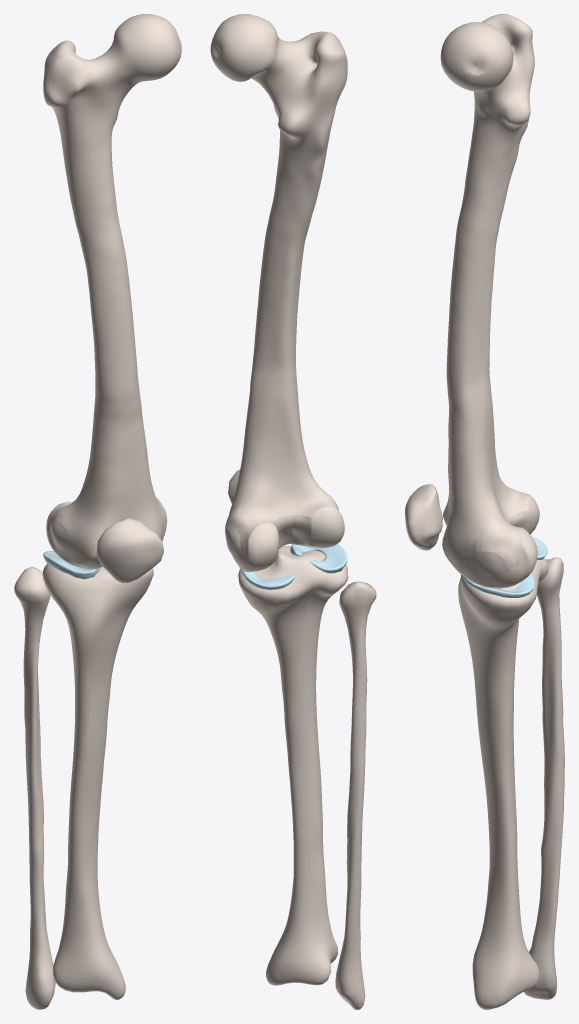
Rendered from 3d-vh-f-knee-r.glb.
3 renders of one model, left to right at view 1: azimuth 30°, elevation 25°; view 2: azimuth 210°, elevation 25°; view 3: azimuth 270°, elevation 25°, orthographic. The views are drawn at different scales.
Parts seen in each view (by area): view 1: VH_F_femur_R, VH_F_tibia_R, VH_F_fibula_R, VH_F_patella_R, VH_F_meniscus_R; view 2: VH_F_femur_R, VH_F_tibia_R, VH_F_fibula_R, VH_F_meniscus_R, VH_F_medial_condyle_of_right_femur_inf, VH_F_lateral_condyle_of_femur_inf_R, VH_F_anterior_cruciate_enthesis_R, VH_F_posterior_cruciate_enthesis_R; view 3: VH_F_femur_R, VH_F_tibia_R, VH_F_fibula_R, VH_F_patella_R, VH_F_meniscus_R, VH_F_medial_perichondular_surface_R, VH_F_medial_condyle_of_right_femur_inf, VH_F_articular_cartilage_of_knee_R, VH_F_medial_epicondylar_enthesis_R.
Part boxes in pixels (<box>): VH_F_femur_R: <box>43,14,181,562</box>; VH_F_tibia_R: <box>42,563,153,999</box>; VH_F_fibula_R: <box>14,566,55,1009</box>; VH_F_patella_R: <box>96,518,163,583</box>; VH_F_meniscus_R: <box>43,551,99,579</box>; VH_F_femur_R: <box>210,14,347,567</box>; VH_F_tibia_R: <box>238,545,348,985</box>; VH_F_fibula_R: <box>335,581,376,1009</box>; VH_F_meniscus_R: <box>241,543,347,589</box>; VH_F_medial_condyle_of_right_femur_inf: <box>245,524,279,570</box>; VH_F_lateral_condyle_of_femur_inf_R: <box>310,506,344,547</box>; VH_F_anterior_cruciate_enthesis_R: <box>292,515,311,544</box>; VH_F_posterior_cruciate_enthesis_R: <box>275,515,293,547</box>; VH_F_femur_R: <box>440,14,534,585</box>; VH_F_tibia_R: <box>458,558,548,1009</box>; VH_F_fibula_R: <box>524,557,564,999</box>; VH_F_patella_R: <box>405,484,442,550</box>; VH_F_meniscus_R: <box>463,537,547,597</box>; VH_F_medial_perichondular_surface_R: <box>473,551,509,576</box>; VH_F_medial_condyle_of_right_femur_inf: <box>519,528,537,581</box>; VH_F_articular_cartilage_of_knee_R: <box>442,493,529,587</box>; VH_F_medial_epicondylar_enthesis_R: <box>475,542,516,569</box>.
Bounding box in the file's own units: 0.1016 × 0.7718 × 0.1105.
